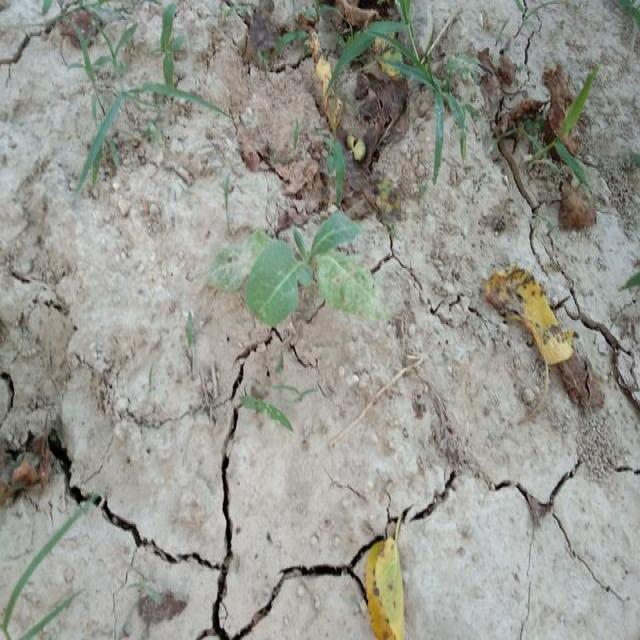crop: (204, 214, 379, 333)
